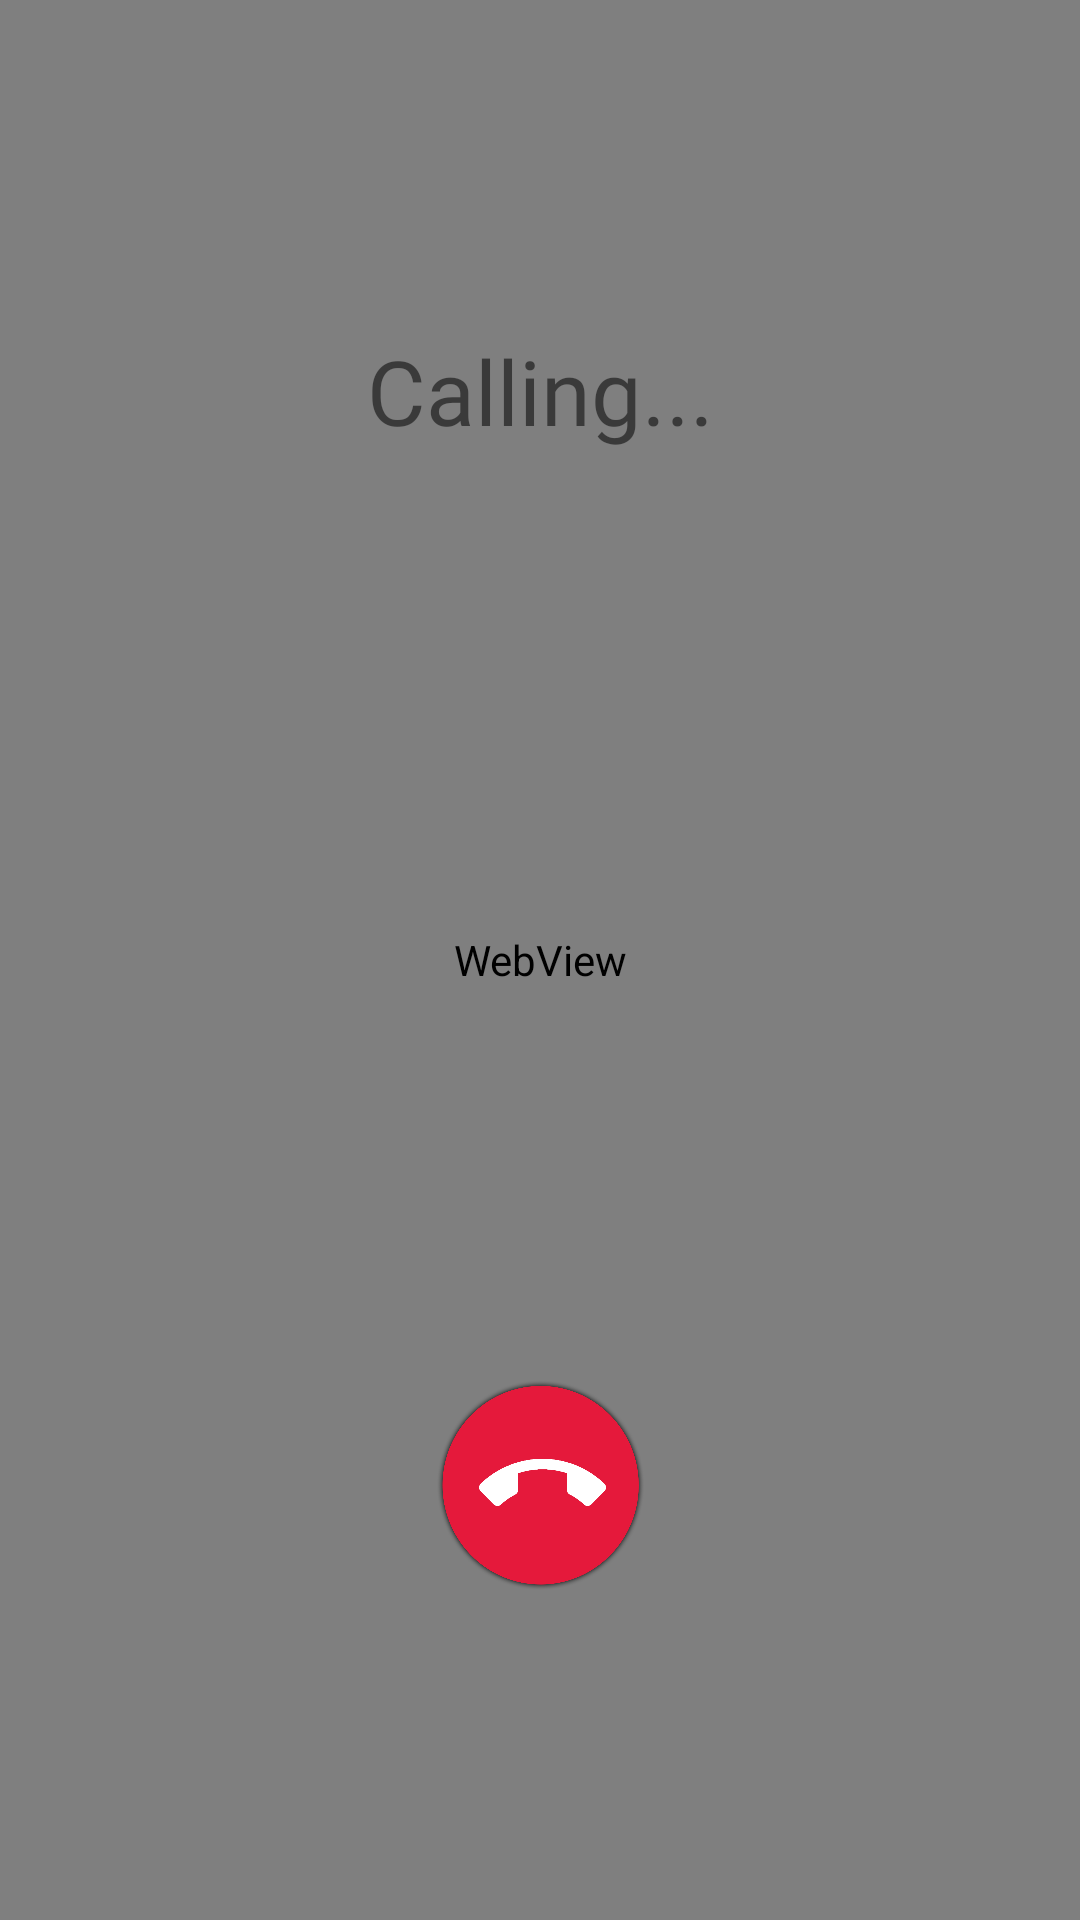

Point at icon controls on the screen. Image size 1080px×1920px, points as [x,y].
endcall: [540,1485]
